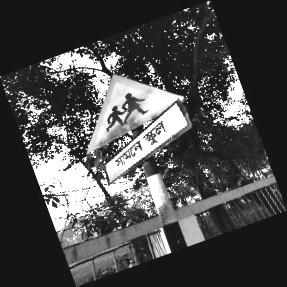School-in-front: (86, 74, 191, 188)
